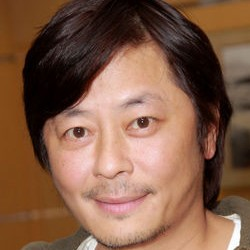unmask: (38, 85, 204, 245)
